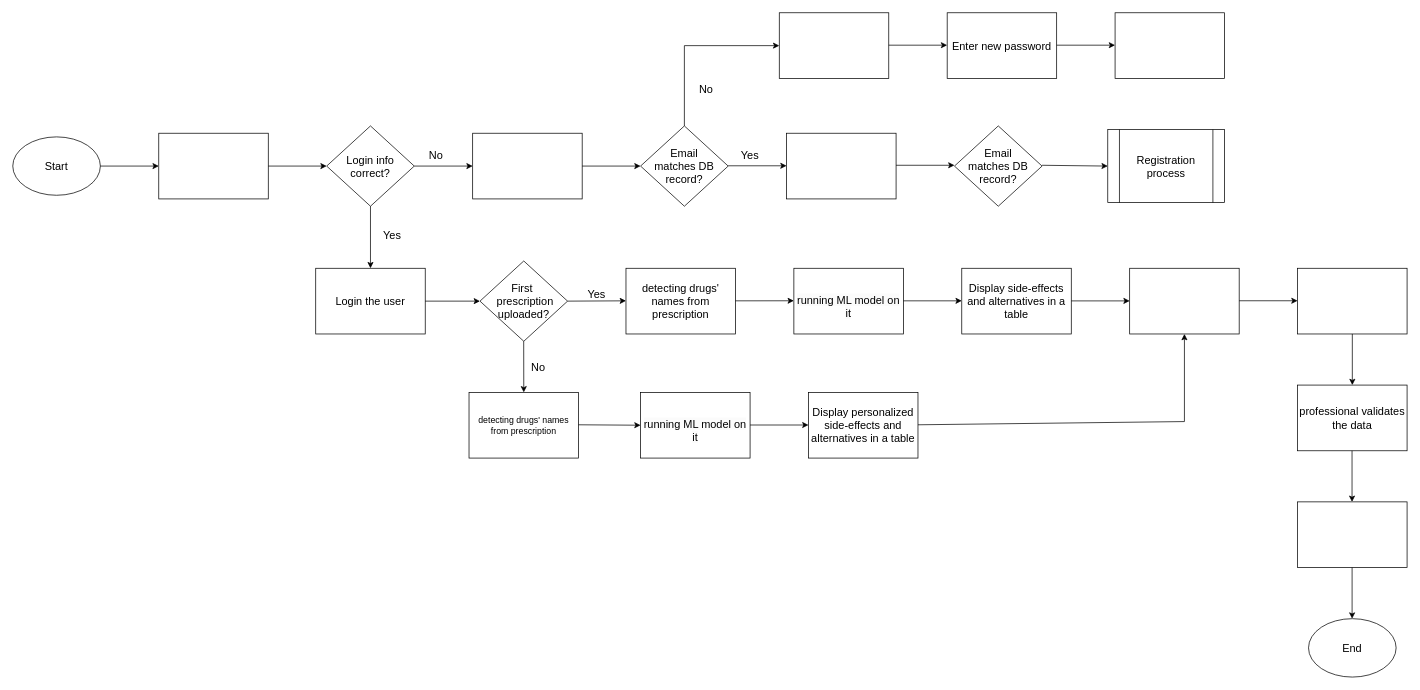
Some shapes in this 1420 by 690 pixel diagram are drawn without their labels. Here are the shapes that lost their labels. From the top down, the centre of each, then its label:
At (x=834, y=45): "Reset email sent, user clicks link to reset".
At (x=1169, y=45): "Confirmation".
At (x=213, y=165): "Login Page: User enters login/pass".
At (x=527, y=165): "Password reset: User enters email adderess".
At (x=841, y=165): "Re-enter email adderess".
At (x=1184, y=301): "A form to ask for additional side effects".
At (x=1352, y=301): "table data goes to medical professional".
At (x=1352, y=534): "data is stored personalized to the user".
